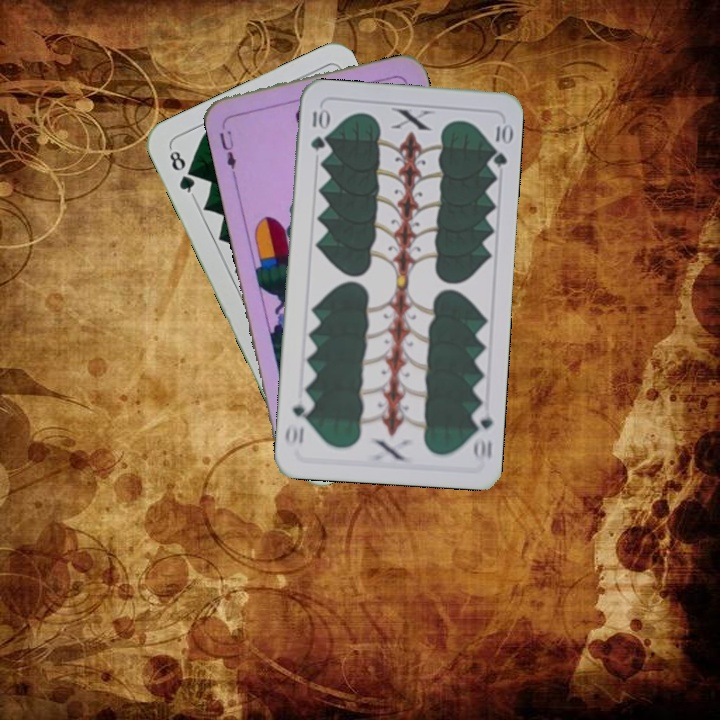EU: (215, 117, 239, 176)
G10: (468, 404, 495, 464), (307, 104, 329, 153)
G8: (165, 144, 198, 200)
